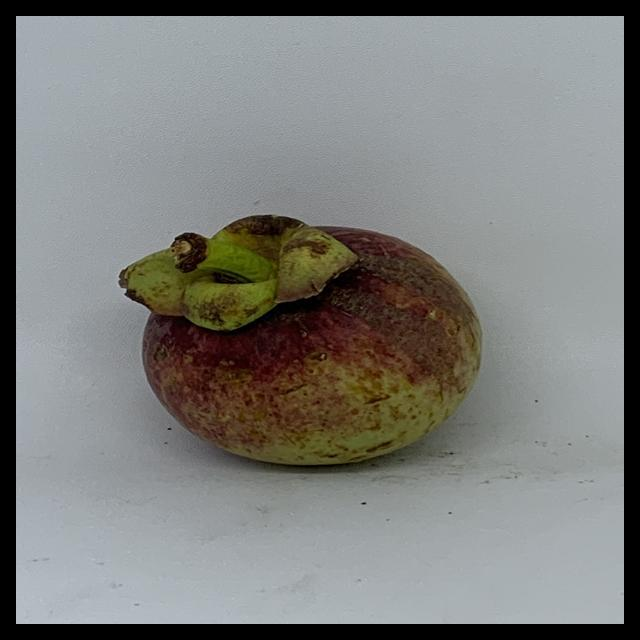mangosteen: (131, 193, 491, 465)
